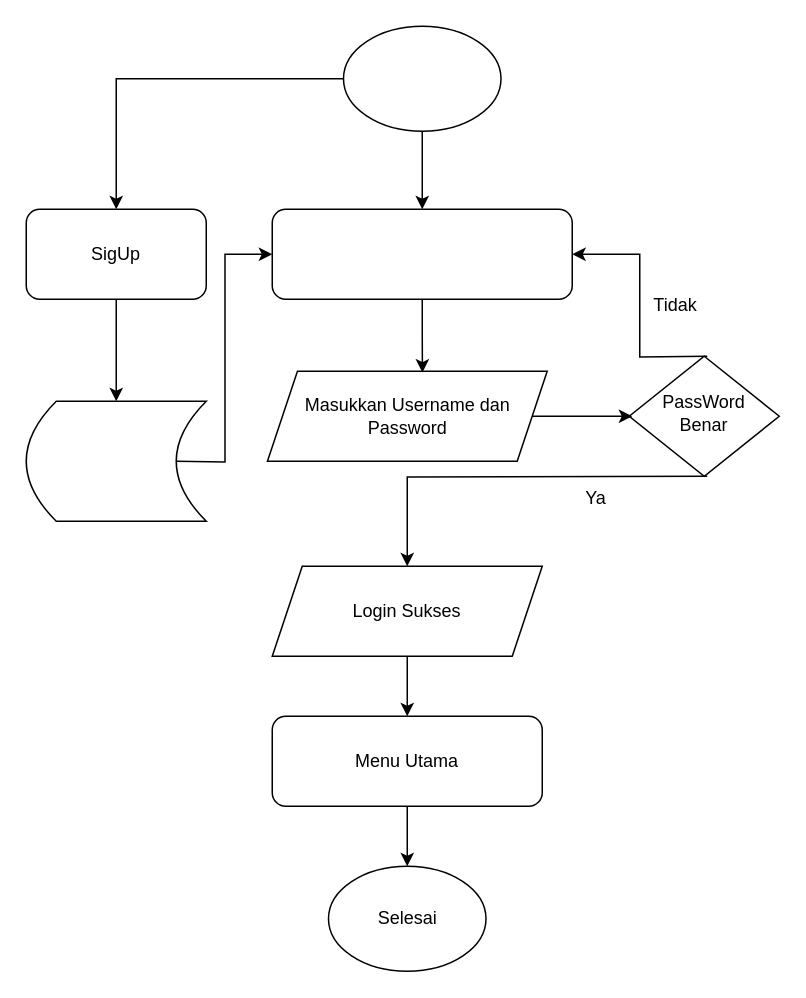
Image size: 806x998. Some labels were removed from this diagram. The shapes that lost their labels are listed below. From the top down, each one's box as (x1, y1, x2, y2) in pixels, then its label:
(342, 25, 501, 131): Mulai
(271, 208, 572, 299): Login Page
(25, 400, 206, 521): Registrasi
